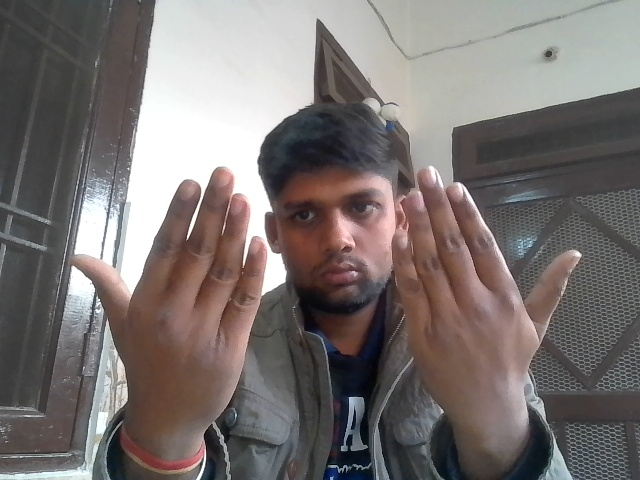ThankYou: (58, 148, 593, 437)
